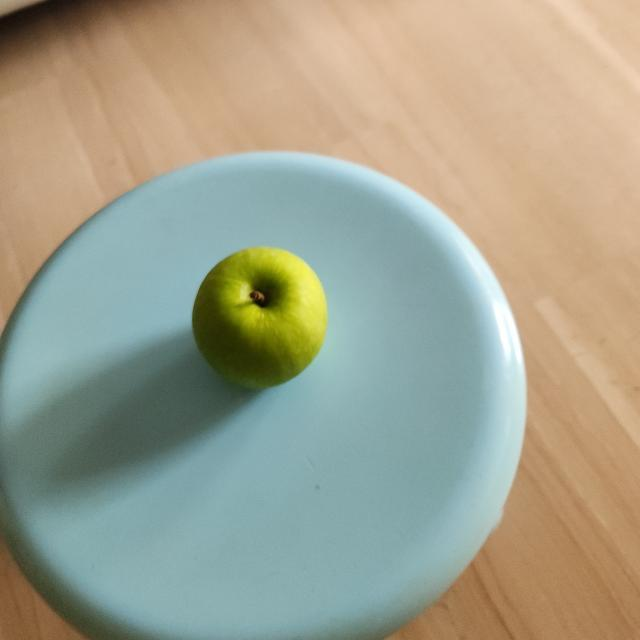apple: (186, 240, 338, 402)
